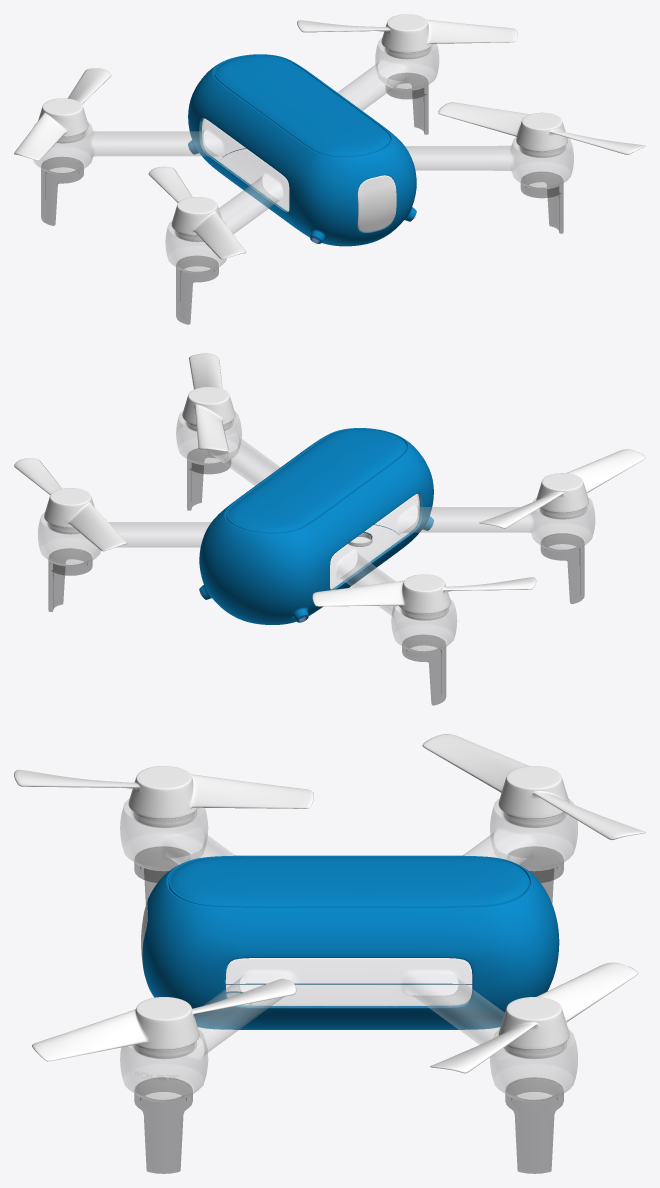
The model's file is DroneModel.glb.
3 views of the same model, one above another, from view 1: azimuth 30°, elevation 25°; view 2: azimuth 150°, elevation 25°; view 3: azimuth 270°, elevation 25° (orthographic). The views are drawn at different scales.
Visible parts, largest first — view 1: Quadrocopter, SidePart, Legs, Propeller4, Propeller2, Propeller3, Propeller1, Glass, Rotors; view 2: Quadrocopter, SidePart, Legs, Propeller3, Propeller1, Propeller4, Propeller2, Rotors; view 3: Quadrocopter, SidePart, Legs, Propeller1, Propeller2, Propeller3, Propeller4, Rotors.
Boxes of the visible parts, <box> form: Quadrocopter: <box>188,54,416,246</box>; SidePart: <box>33,38,573,273</box>; Legs: <box>41,73,563,324</box>; Propeller4: <box>297,14,517,52</box>; Propeller2: <box>438,102,645,154</box>; Propeller3: <box>14,68,111,160</box>; Propeller1: <box>148,166,246,259</box>; Glass: <box>357,175,396,232</box>; Rotors: <box>57,47,564,241</box>; Quadrocopter: <box>199,428,433,624</box>; SidePart: <box>38,411,594,652</box>; Legs: <box>48,448,584,705</box>; Propeller3: <box>312,574,536,613</box>; Propeller1: <box>479,449,645,528</box>; Propeller4: <box>14,458,127,551</box>; Propeller2: <box>182,353,235,451</box>; Rotors: <box>47,421,585,619</box>; Quadrocopter: <box>142,855,559,1029</box>; SidePart: <box>120,798,577,1101</box>; Legs: <box>134,846,563,1173</box>; Propeller1: <box>14,766,313,818</box>; Propeller2: <box>32,978,296,1061</box>; Propeller3: <box>422,734,645,840</box>; Propeller4: <box>430,962,637,1073</box>; Rotors: <box>133,811,564,1058</box>.
Size of the model in its own units: 1.37 by 0.3229 by 1.09.
3 materials, 1 textured.
